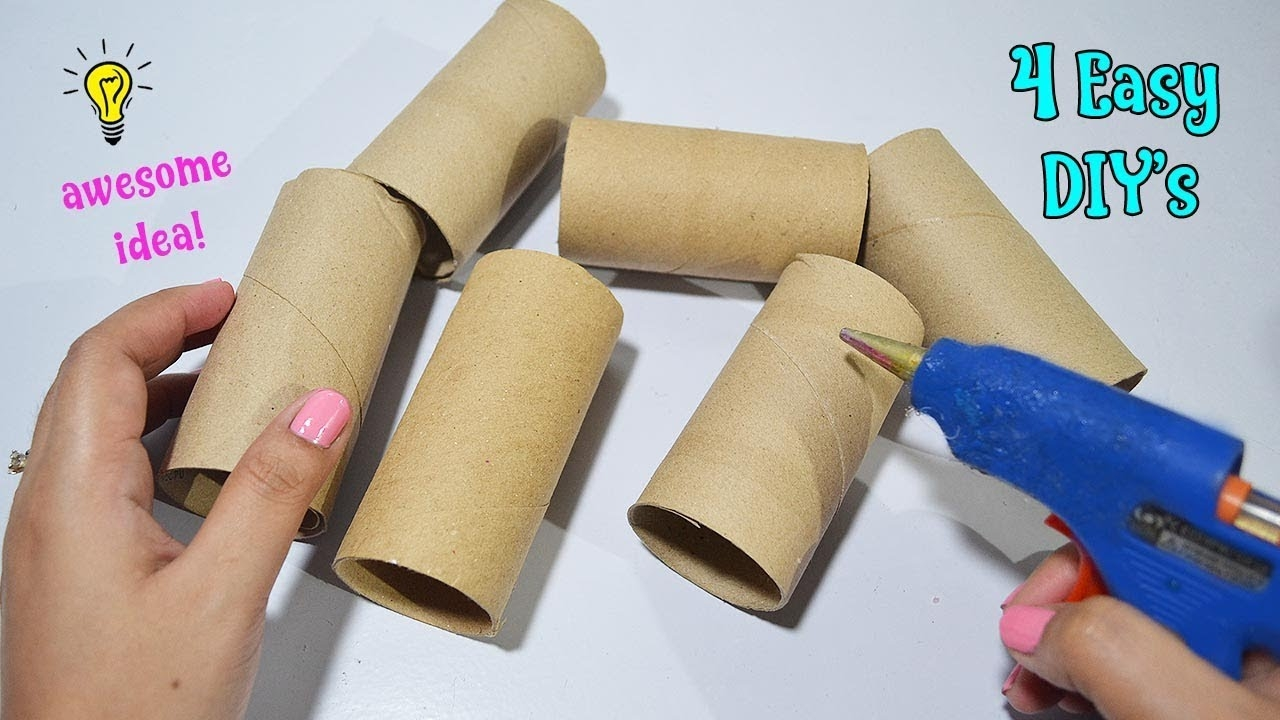paper: (623, 227, 938, 636), (323, 240, 629, 651), (138, 147, 436, 564), (858, 109, 1153, 431), (343, 1, 643, 286), (522, 92, 891, 302)
